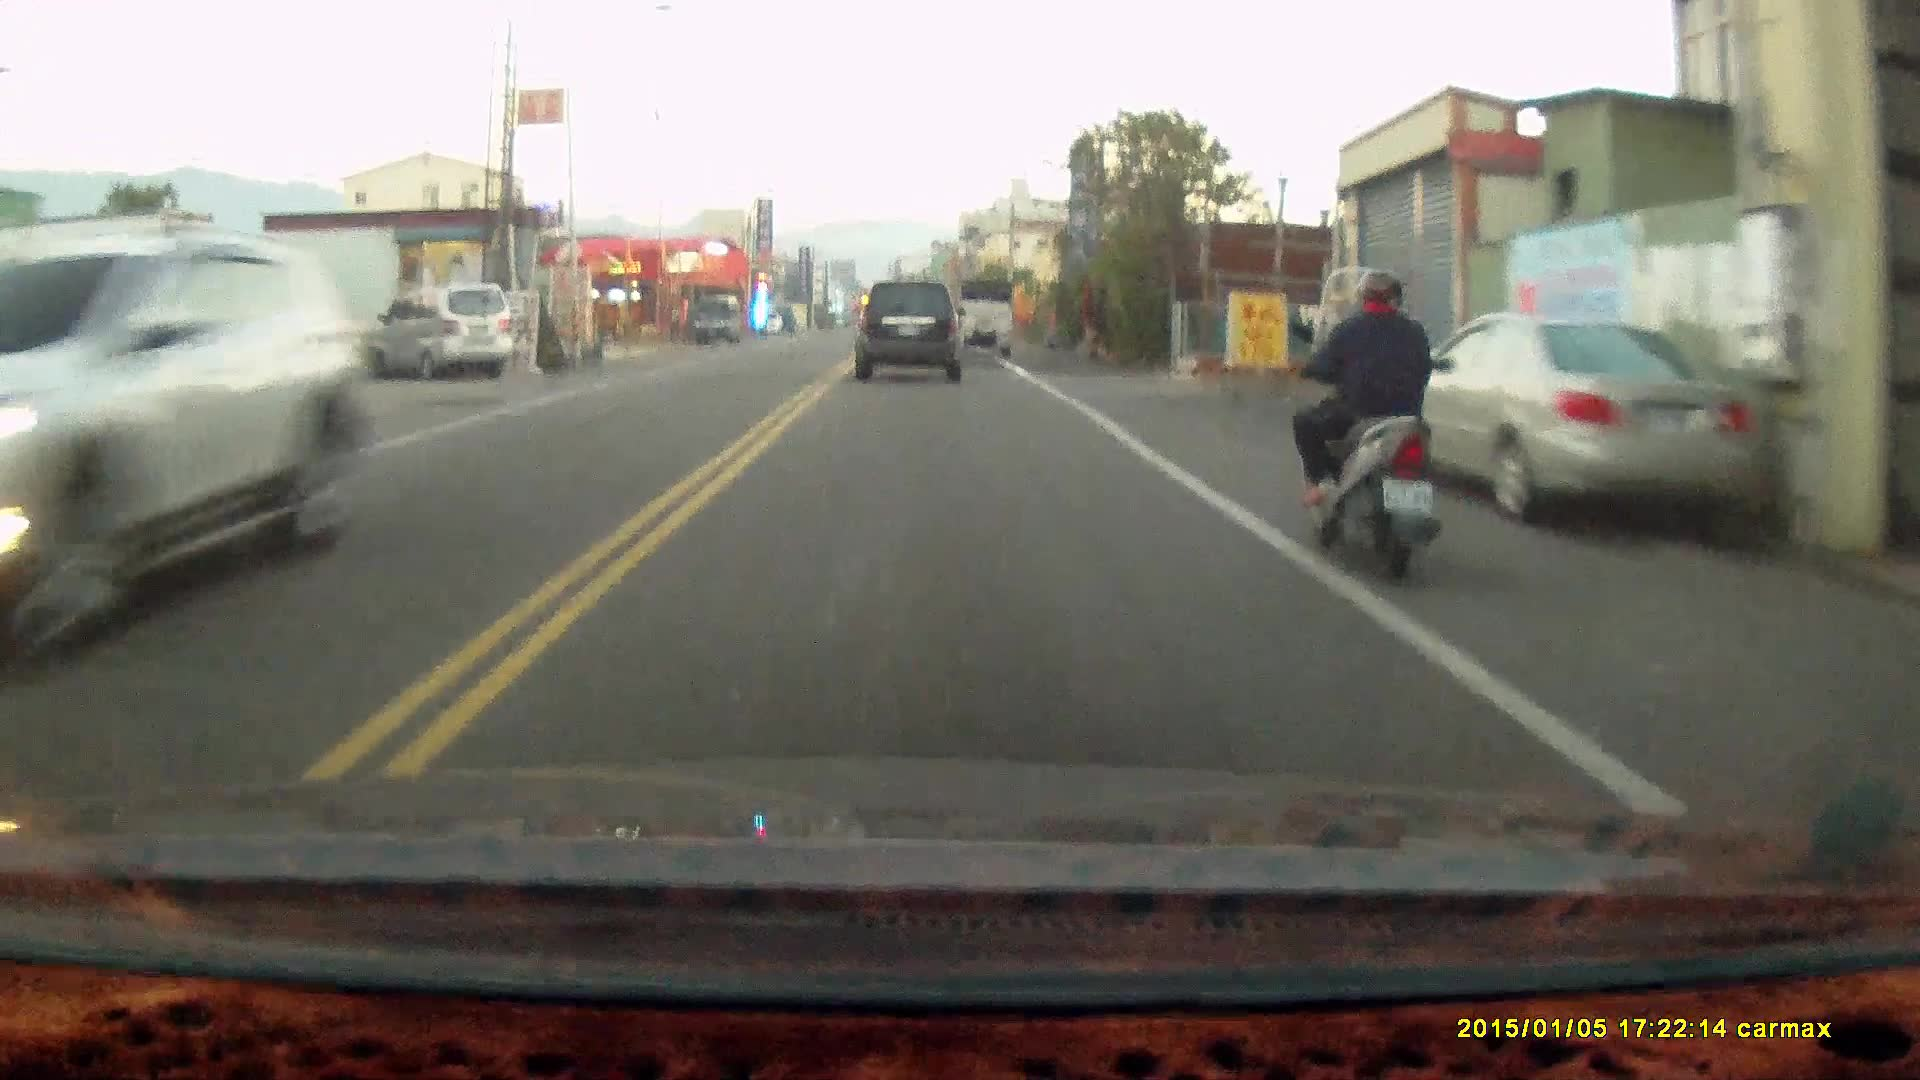rider: (1287, 268, 1440, 585)
vehicle: (1, 223, 379, 674), (1373, 305, 1786, 537), (378, 281, 515, 381), (853, 277, 968, 383), (956, 279, 1017, 358)
